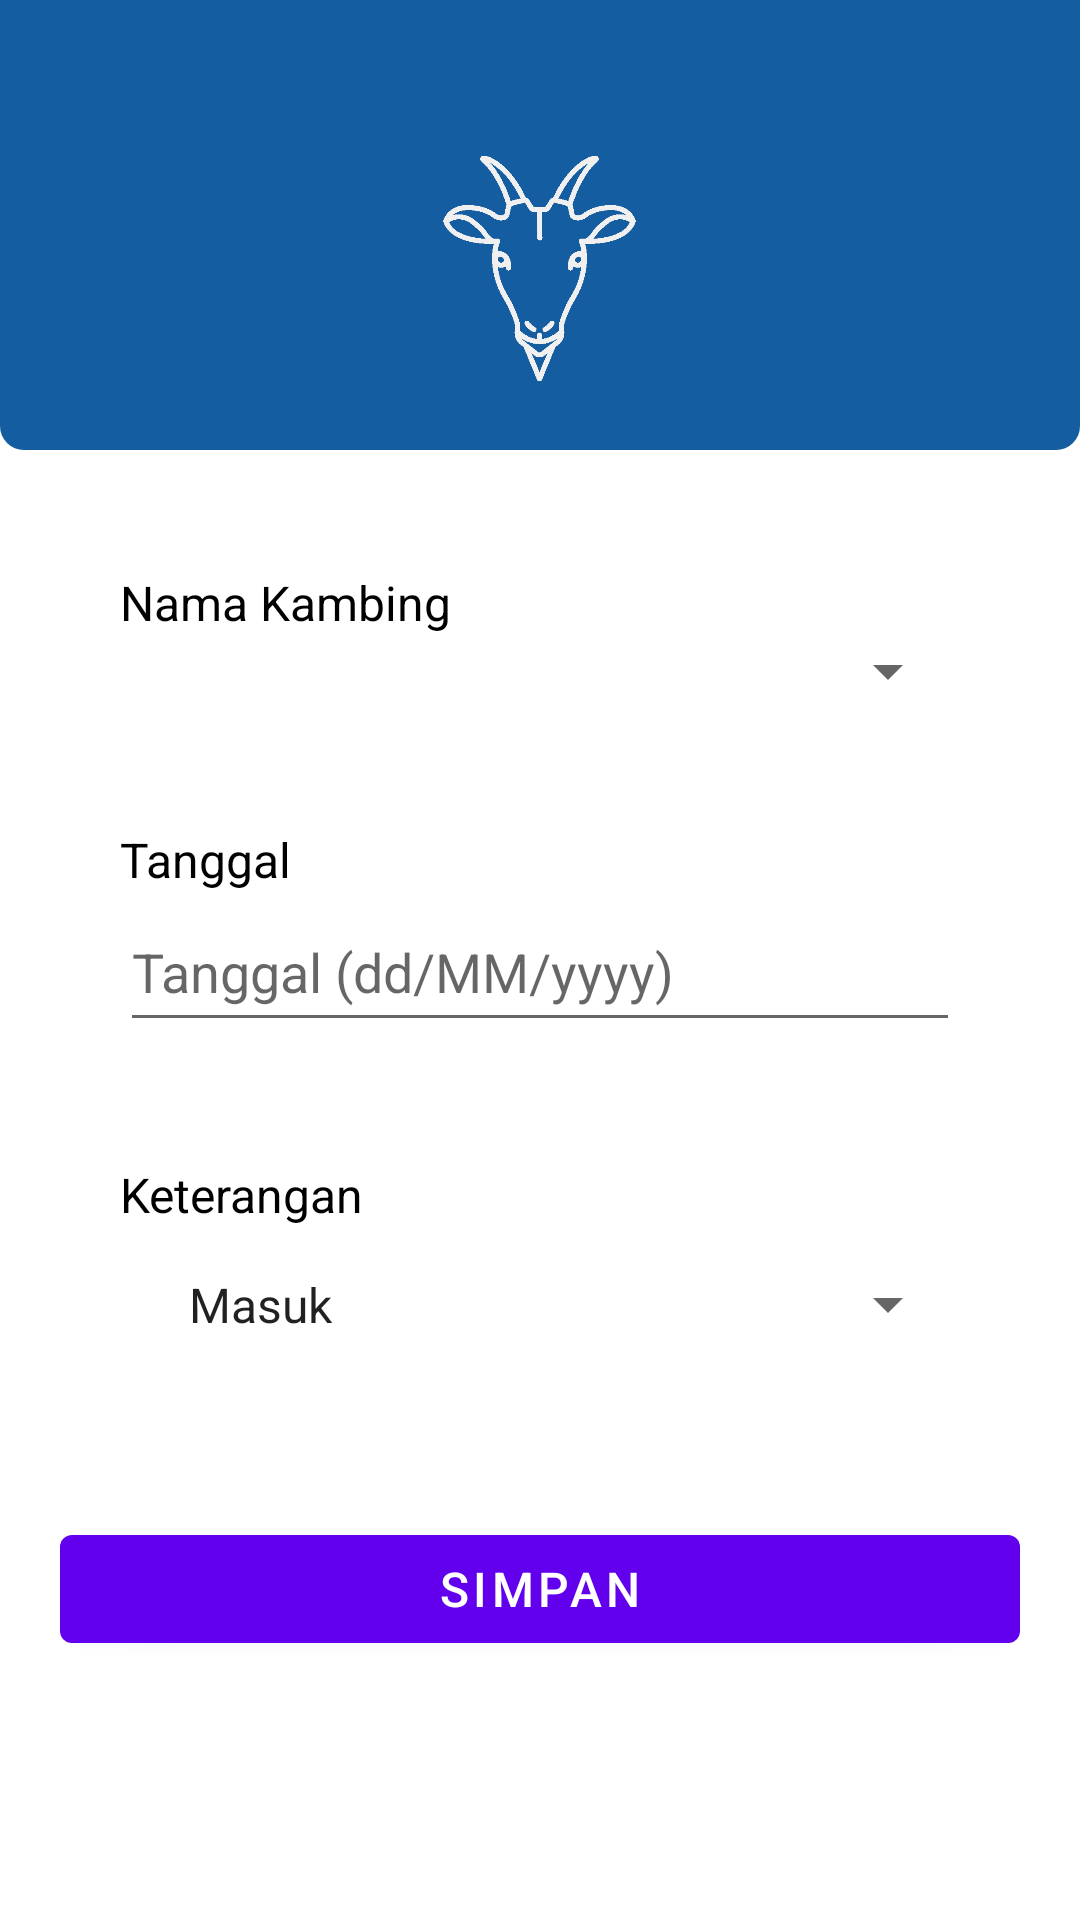

Named icons in this screenshot (1080 x 1920) and their centers, [x,y]:
goat: [539,268]
